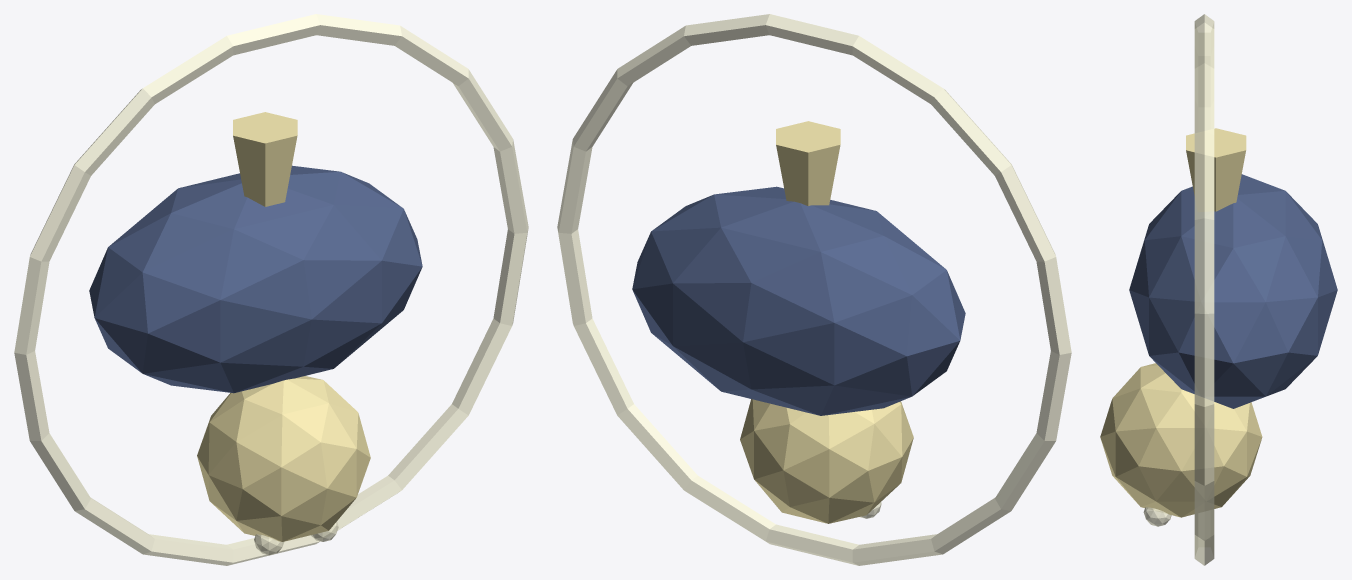
File: 08_pet_companion_proc.glb
3 renders of one model, left to right at view 1: azimuth 30°, elevation 25°; view 2: azimuth 150°, elevation 25°; view 3: azimuth 270°, elevation 25°, orthographic. The views are drawn at different scales.
Visible parts, largest first — view 1: pet_body, bonus_proc_ring, pet_head, tail_or_antenna; view 2: pet_body, bonus_proc_ring, pet_head, tail_or_antenna; view 3: pet_body, pet_head, bonus_proc_ring, tail_or_antenna, pet_eye_r.
Boxes of the visible parts, x1=… form: pet_body: x1=89, y1=165, x2=422, y2=393; bonus_proc_ring: x1=14, y1=14, x2=528, y2=565; pet_head: x1=197, y1=376, x2=370, y2=541; tail_or_antenna: x1=233, y1=112, x2=297, y2=206; pet_body: x1=632, y1=186, x2=965, y2=415; bonus_proc_ring: x1=557, y1=14, x2=1071, y2=565; pet_head: x1=740, y1=399, x2=913, y2=523; tail_or_antenna: x1=776, y1=121, x2=840, y2=206; pet_body: x1=1129, y1=174, x2=1337, y2=408; pet_head: x1=1100, y1=363, x2=1262, y2=517; bonus_proc_ring: x1=1194, y1=14, x2=1214, y2=565; tail_or_antenna: x1=1186, y1=128, x2=1246, y2=211; pet_eye_r: x1=1143, y1=507, x2=1171, y2=526.
Bounding box in the file's own units: 0.956 × 0.9415 × 0.41.
